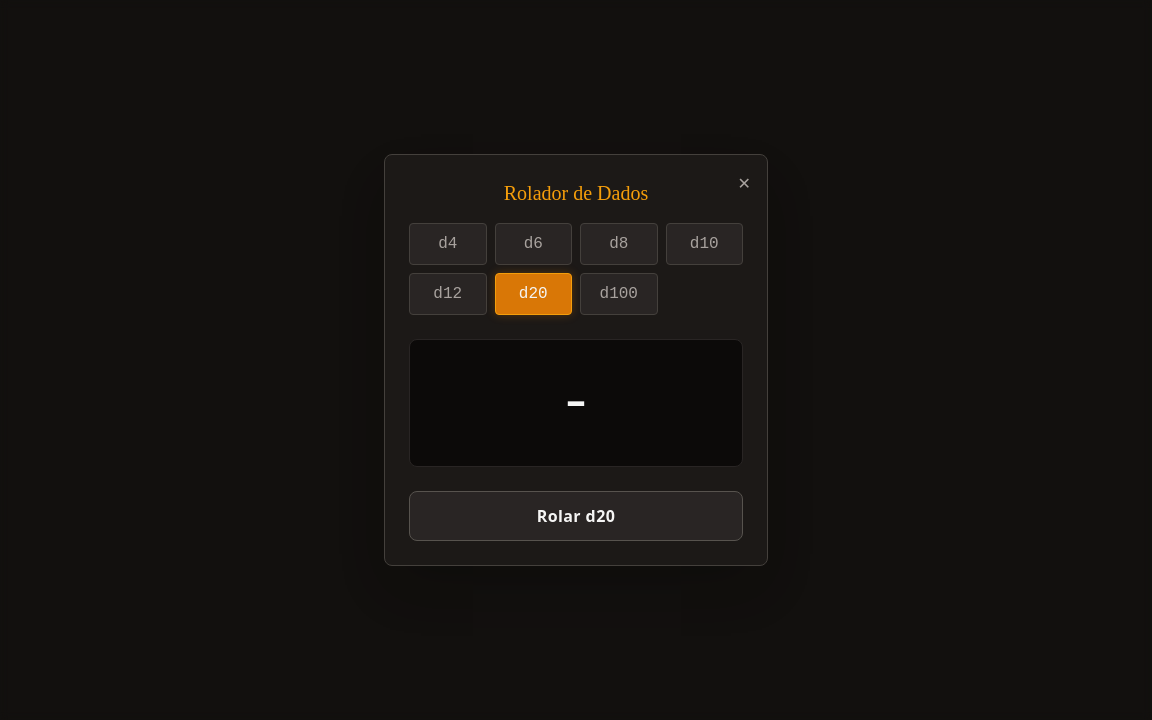
it: DiceRollerDialog › o d4 com sorteio 0,5 dá 3
Click the button "d4" at (448, 244), box [409,223,486,265]
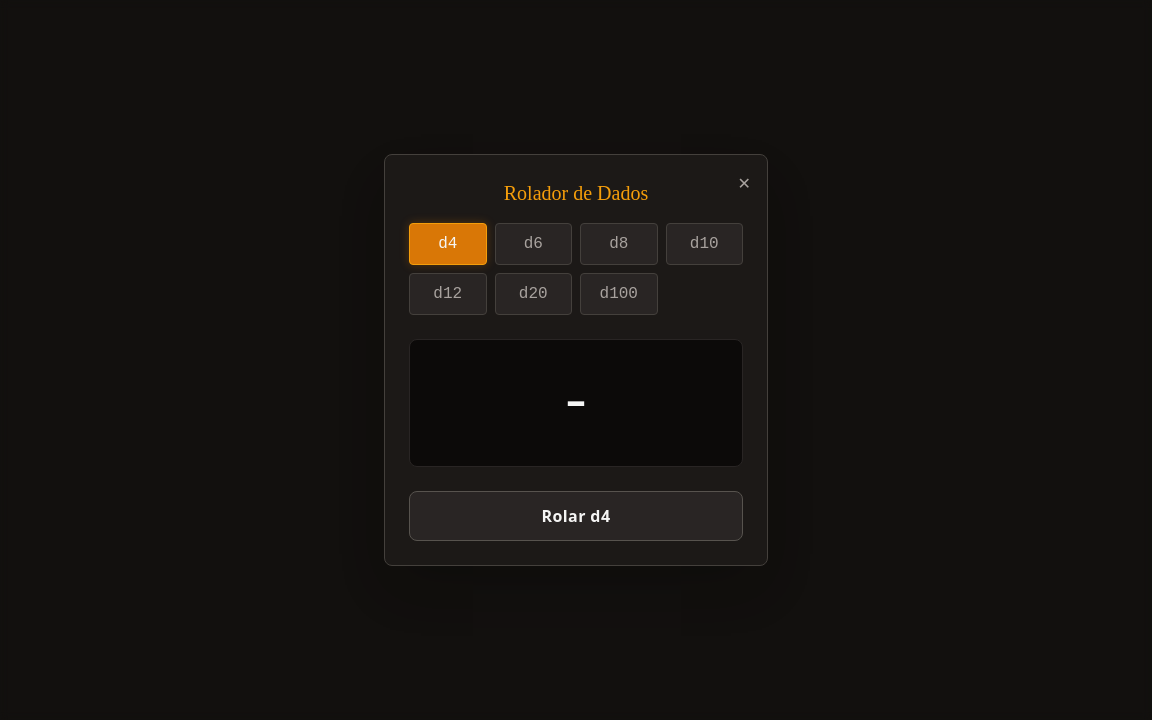
Click the button "Rolar d4" at (576, 516), box [409,491,743,541]
Wait 3000 ms
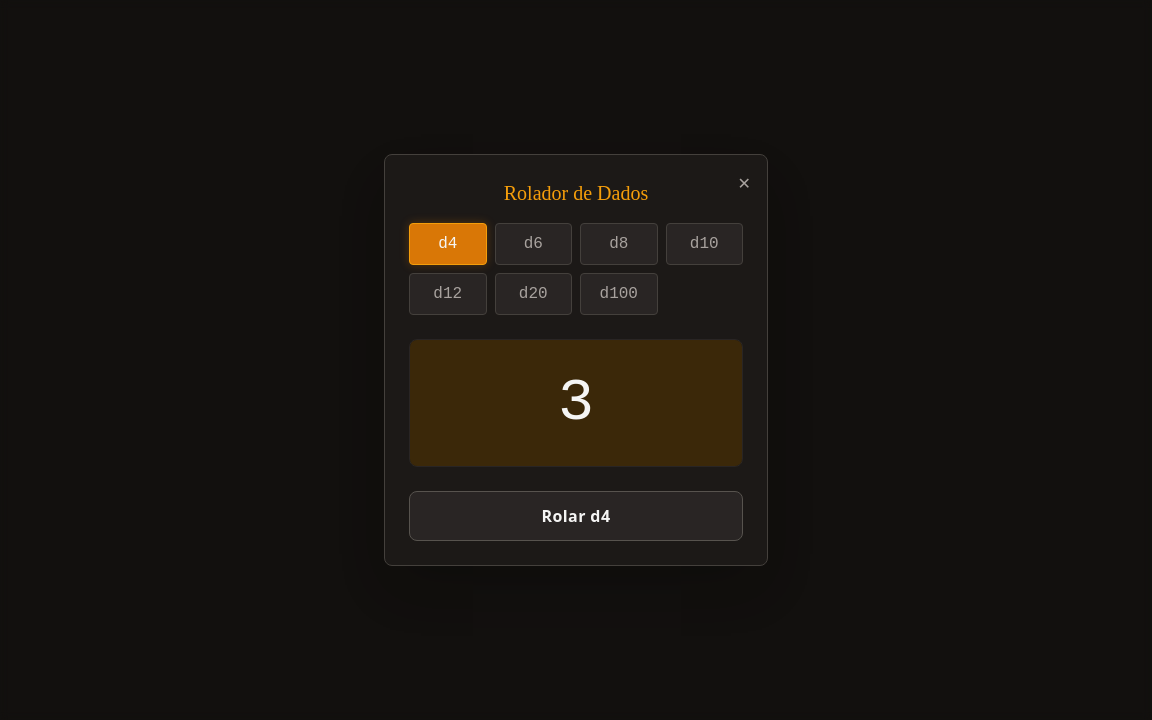
Check: the text "3" is shown, box [558,373,594,433]
